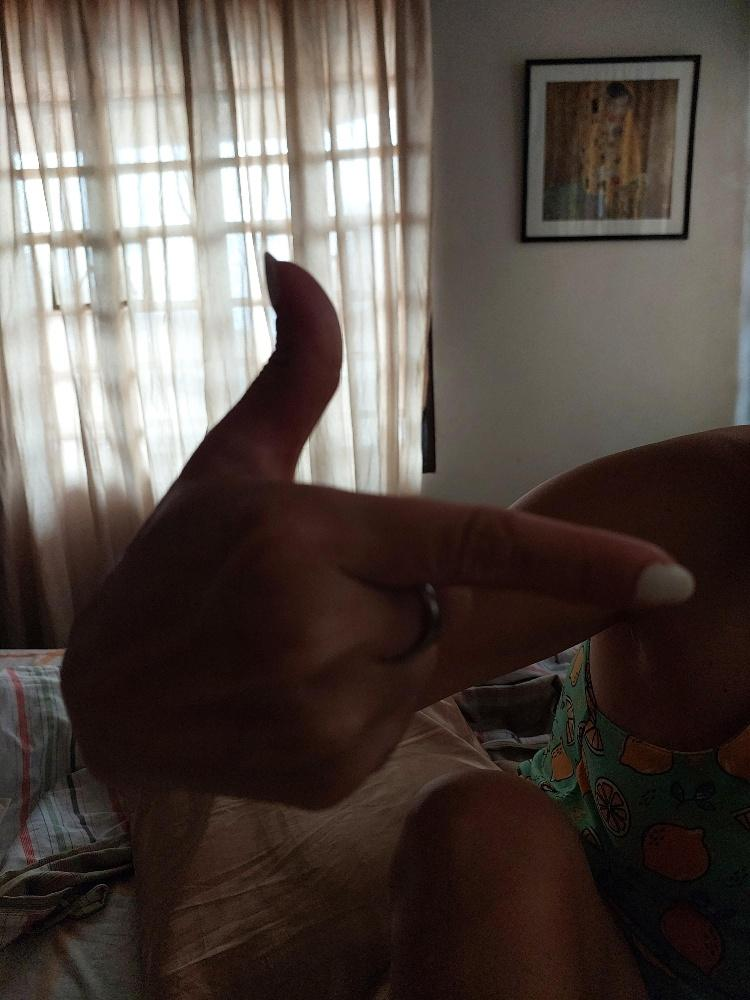g: (50, 248, 698, 820)
